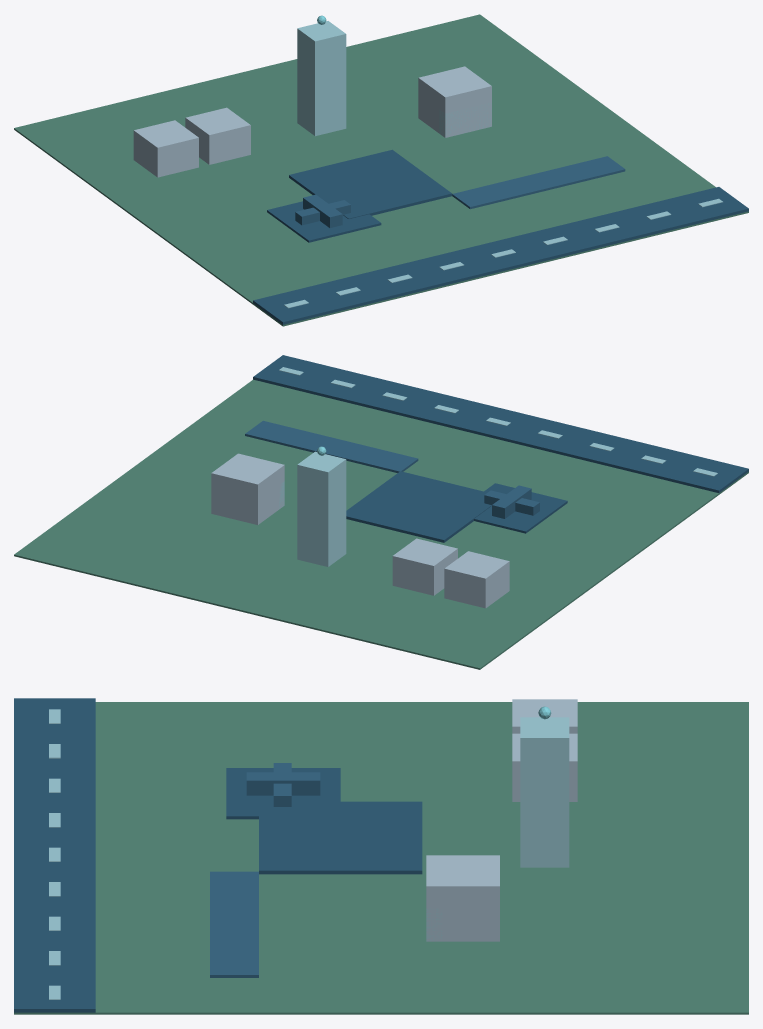
File: stage_07.glb
The picture shows the model from 3 angles, top to bottom: view 1: azimuth 30°, elevation 25°; view 2: azimuth 150°, elevation 25°; view 3: azimuth 270°, elevation 25°; orthographic projection. The views are drawn at different scales.
Parts seen in each view (by area): view 1: geometry_0; view 2: geometry_0; view 3: geometry_0.
Boxes of the visible parts, x1=… form: geometry_0: x1=14, y1=14, x2=748, y2=326; geometry_0: x1=14, y1=355, x2=748, y2=669; geometry_0: x1=14, y1=698, x2=748, y2=1014.
Size of the model in its own units: 9 by 2.06 by 9.
